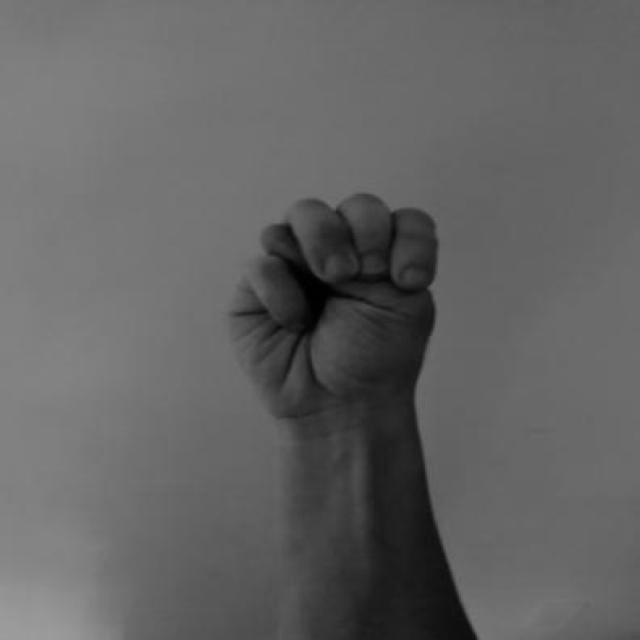M: (216, 183, 458, 427)
